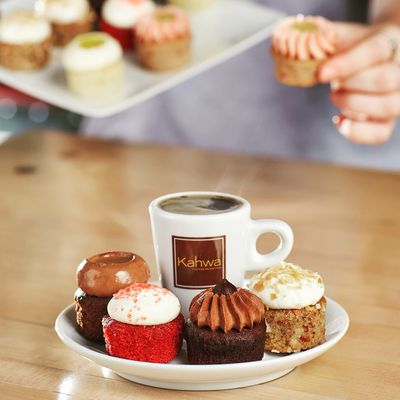pizza: (148, 191, 294, 296)
